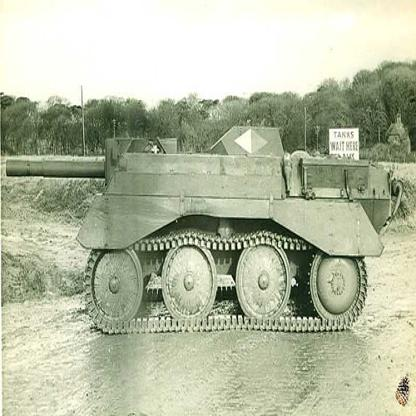Tank: (2, 125, 406, 341)
